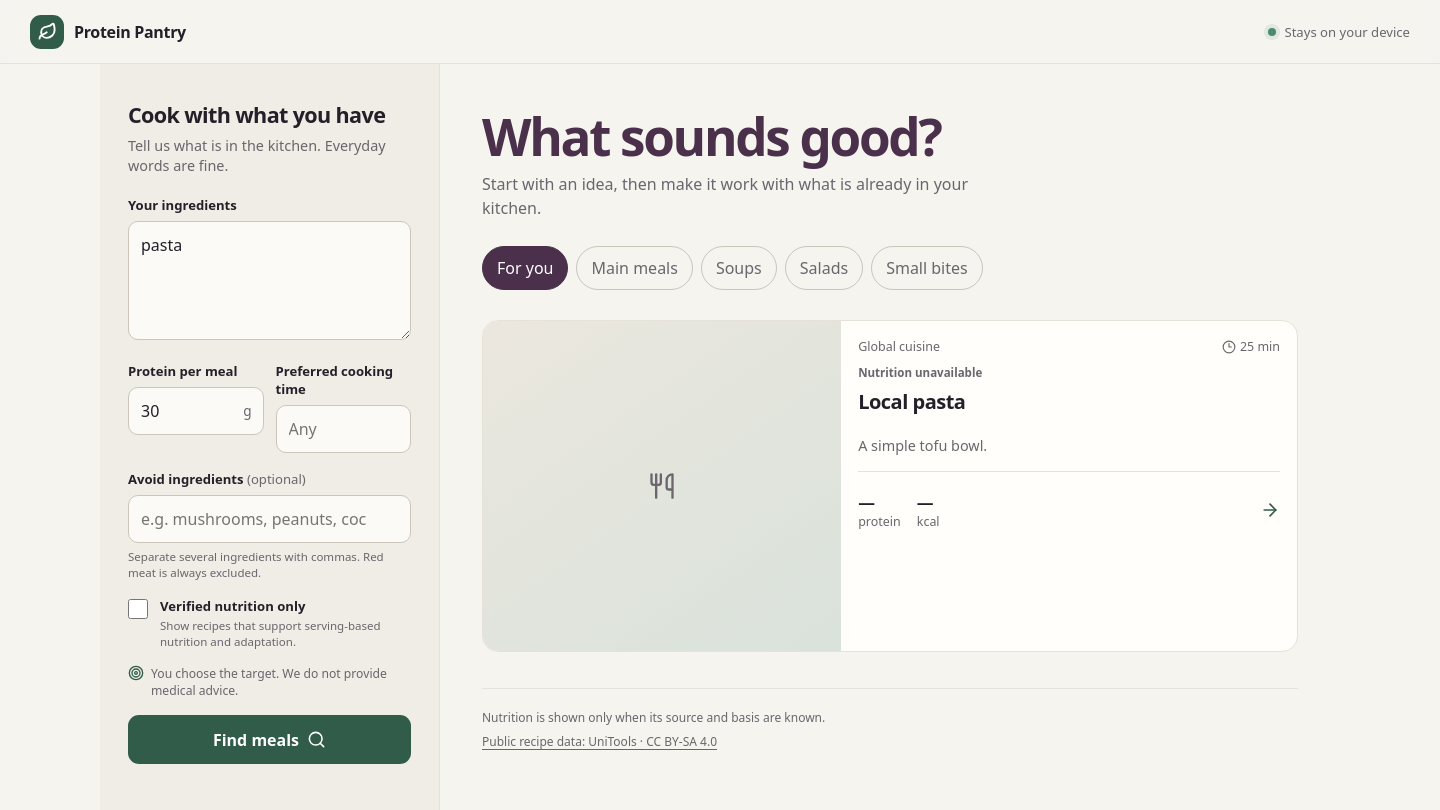
Test case: explains unavailable adaptation before asking for servings
Click the button with aria-label "View Local pasta": {"x": 890, "y": 486} [483,321,1297,651]
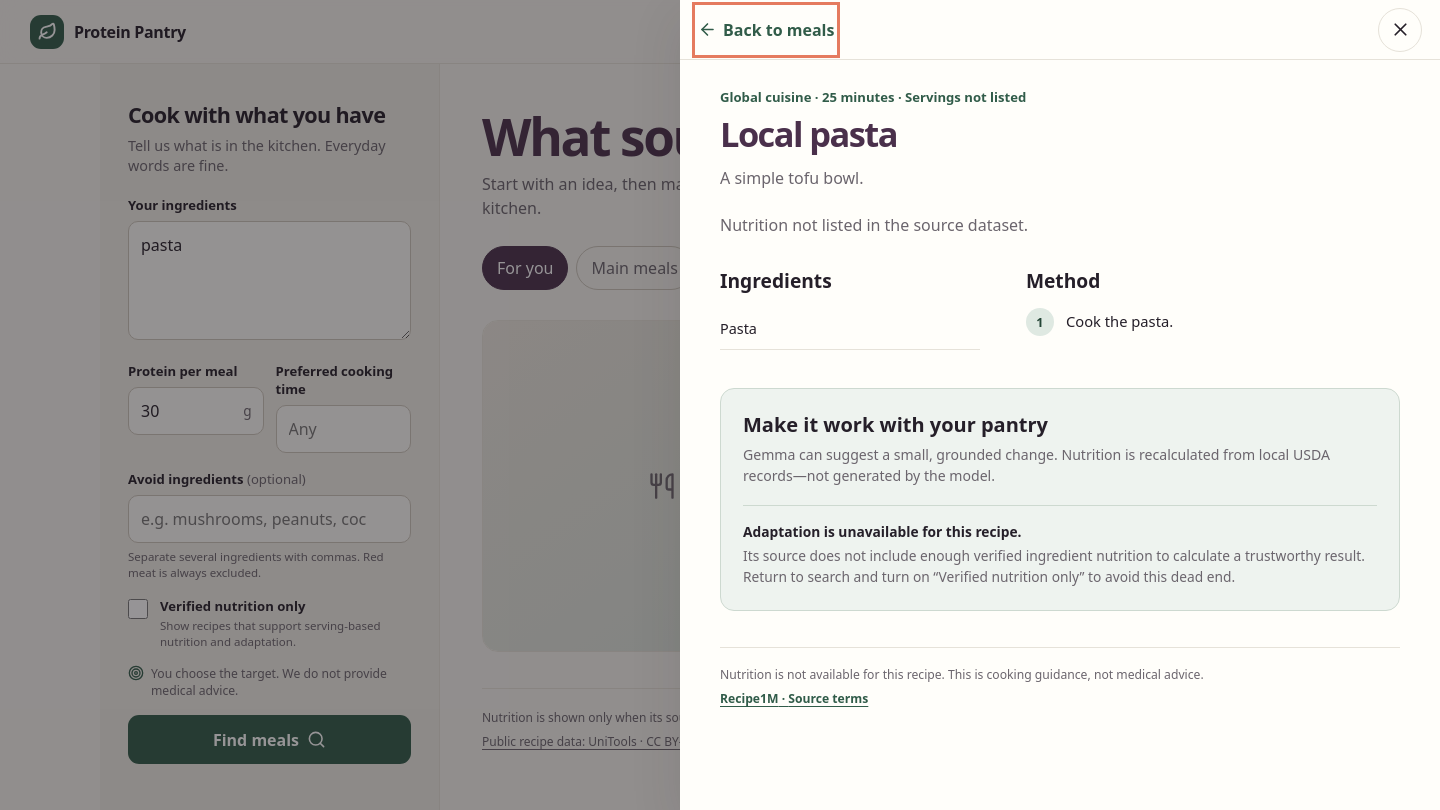
Now the text "Adaptation is unavailable for this recipe." is shown, box [743,522,1022,541]
